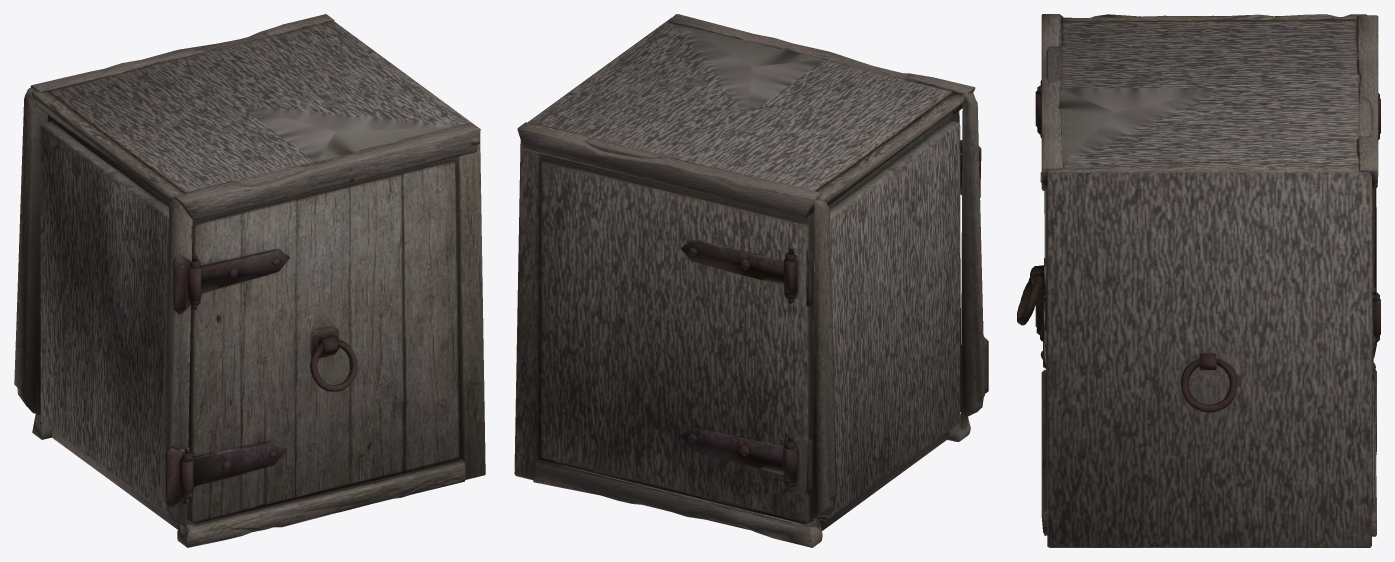
Rendered from selected.glb.
3 renders of one model, left to right at view 1: azimuth 30°, elevation 25°; view 2: azimuth 150°, elevation 25°; view 3: azimuth 270°, elevation 25°, orthographic. The views are drawn at different scales.
Parts seen in each view (by area): view 1: tripo_node_1b06cb14-266f-4c50-9b6f-a1c4de37a840; view 2: tripo_node_1b06cb14-266f-4c50-9b6f-a1c4de37a840; view 3: tripo_node_1b06cb14-266f-4c50-9b6f-a1c4de37a840.
Part boxes in pixels (box(x1,y1,x2,y2)): tripo_node_1b06cb14-266f-4c50-9b6f-a1c4de37a840: box(14, 14, 485, 547); tripo_node_1b06cb14-266f-4c50-9b6f-a1c4de37a840: box(514, 14, 988, 547); tripo_node_1b06cb14-266f-4c50-9b6f-a1c4de37a840: box(1017, 14, 1380, 547).
Bounding box in the file's own units: 0.9941 × 0.998 × 0.873.
Materials: 1 (1 with a texture image).
